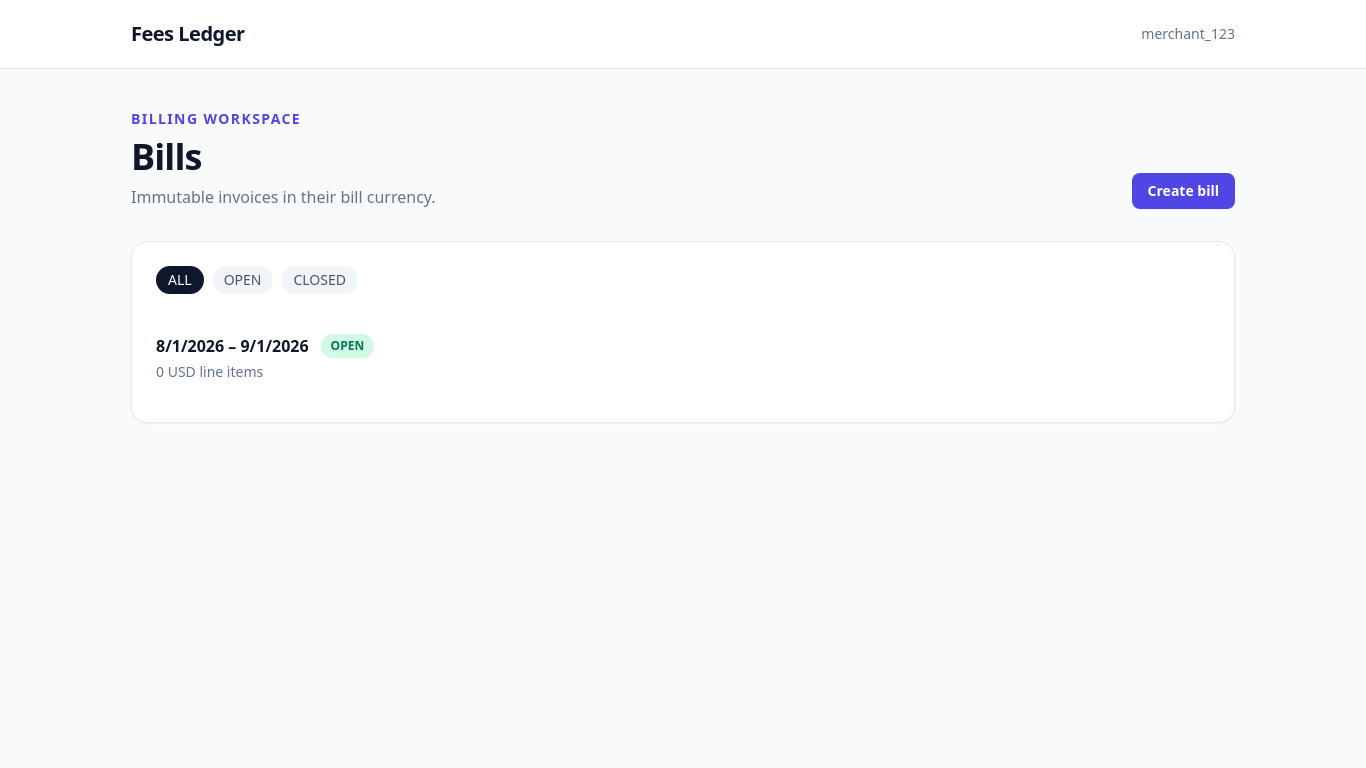
Test: Fees app › shows a single bill currency total in bill details
The width and height of the screenshot is (1366, 768).
Click the text "0 USD line items". click: (210, 372)
box: [156,362,263,381]
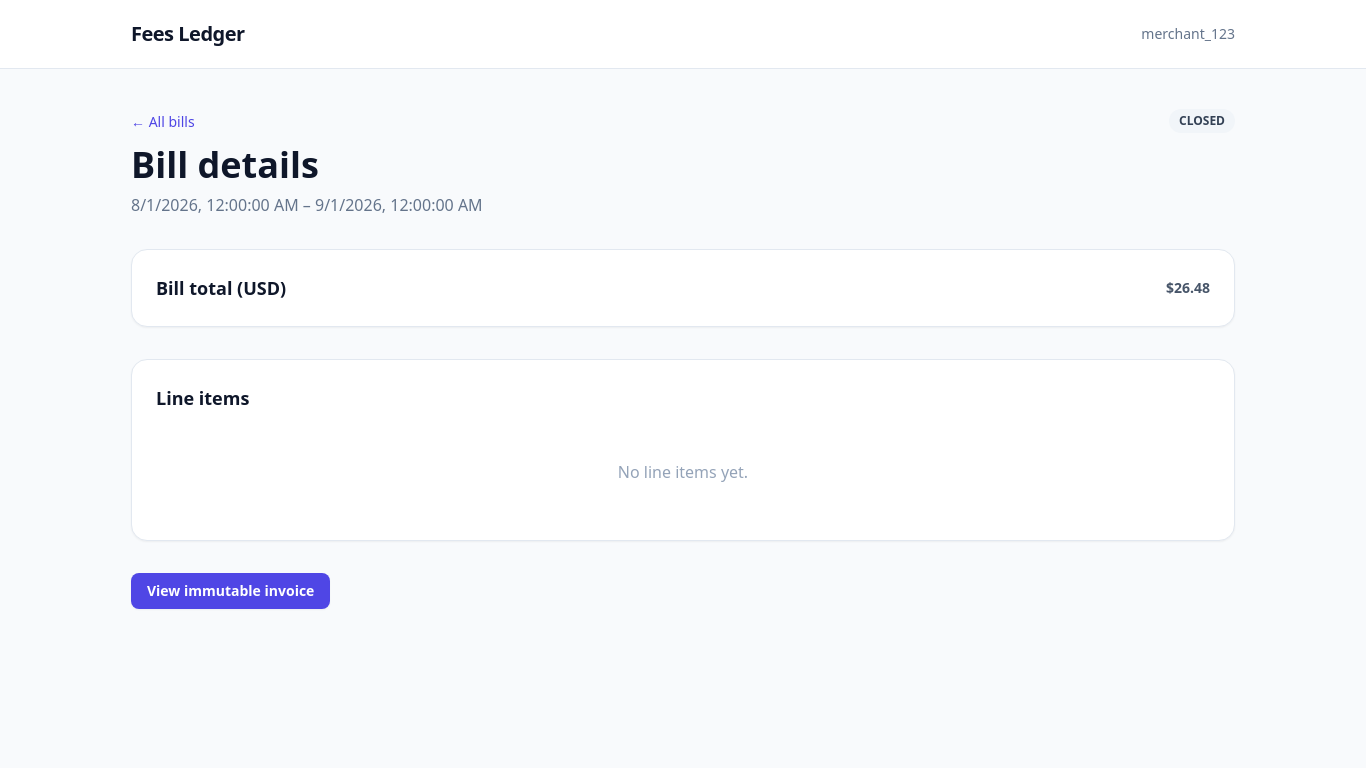
Expected: the heading "Bill total (USD)" is shown, [156,274,286,302]
